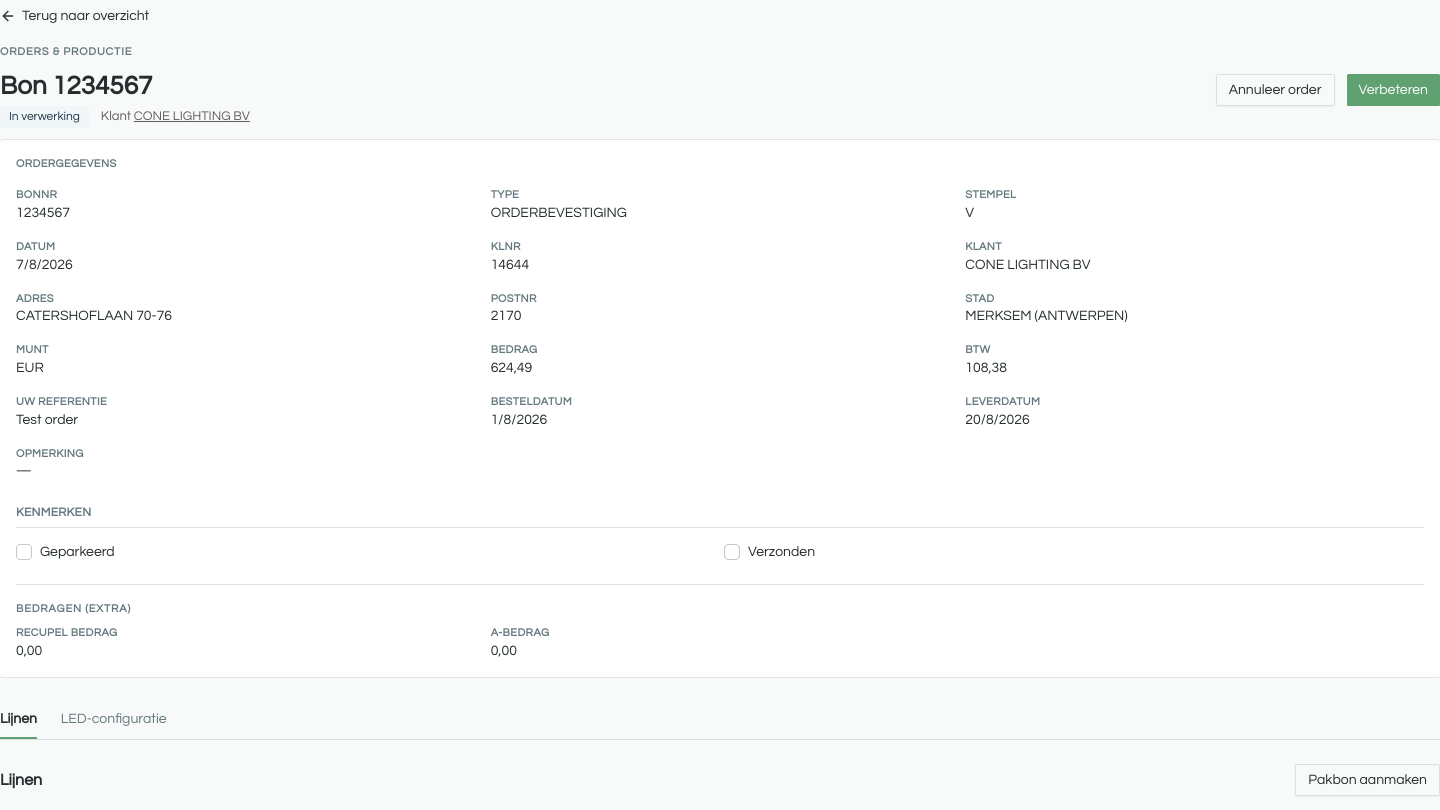
Test: BonDetailPage › annuleer order › on 409 with getBon -> null keeps the existing bon and still reloads lijnen
Click the button "Annuleer order": (1275,90) [1216, 74, 1334, 106]
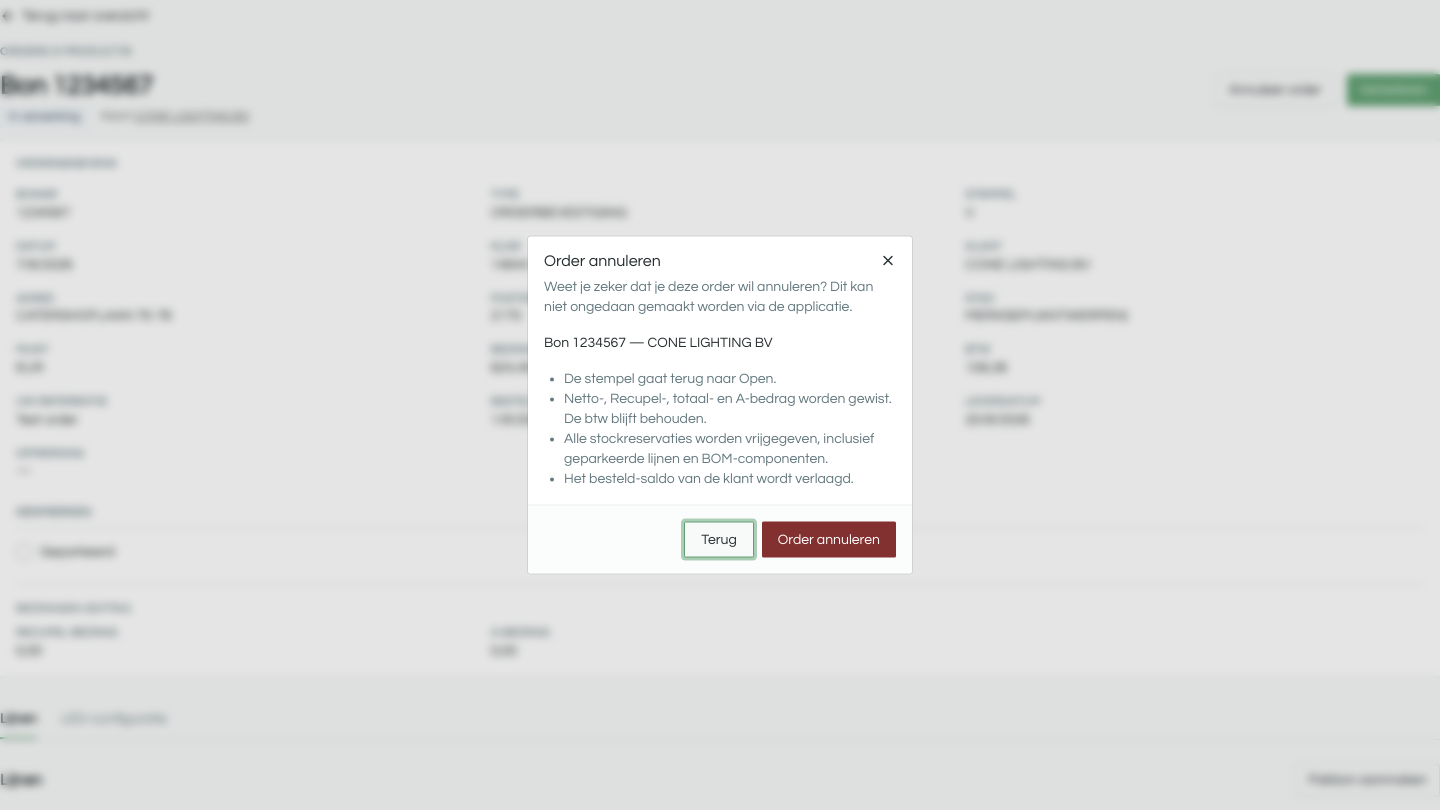
Click the button "Order annuleren": (829,540) [762, 522, 896, 558]
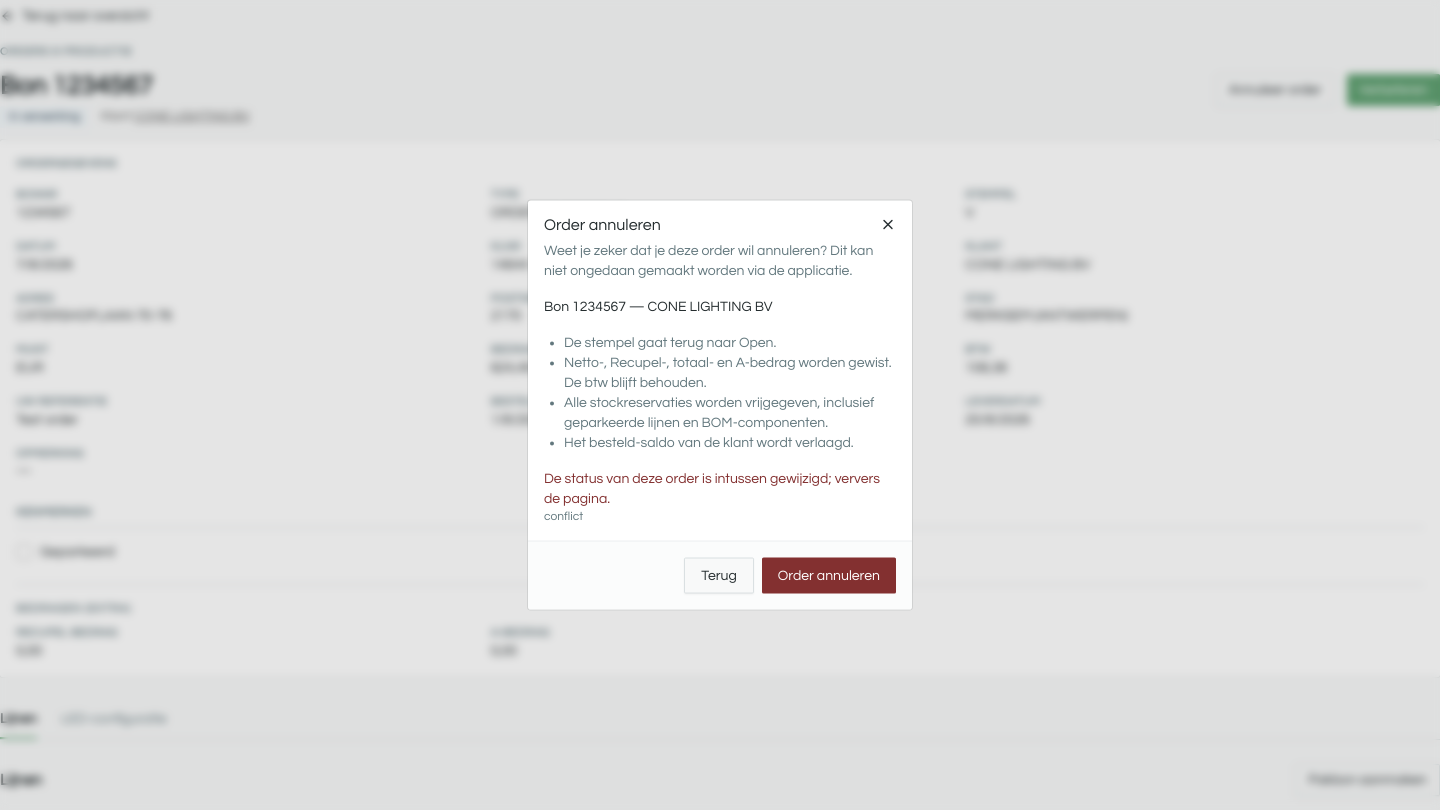
Expected: the text "In verwerking" is shown, [0, 106, 89, 128]
Result: the message "De status van deze order is intussen gewijzigd; ververs de pagina." is shown at [544, 468, 896, 508]
